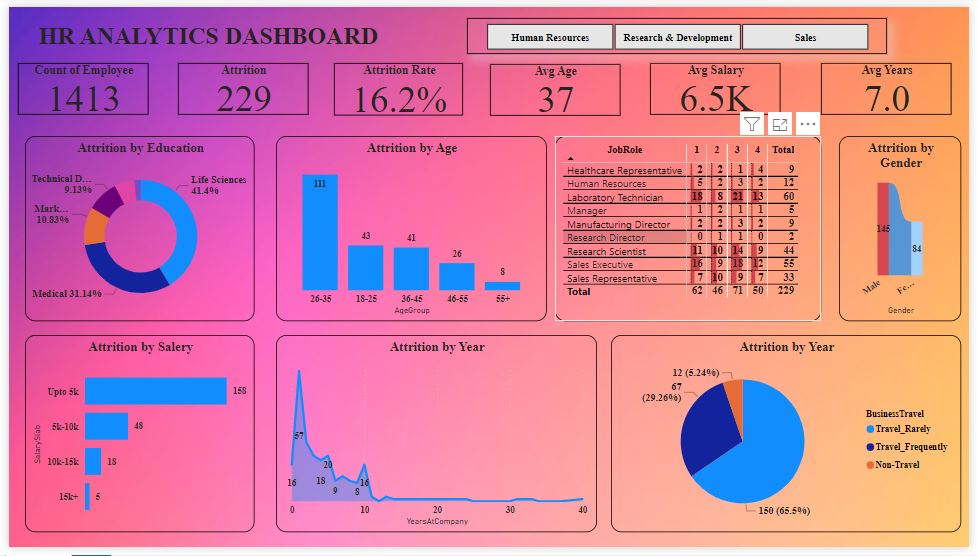

Layout of this report page (visuals, bound fields, positions):
{"tool":"powerbi","page":{"name":"Data","canvas":[1280,720],"ordinal":0},"visuals":[{"type":"card","title":"Count of Employee","fields":{"Values":["CountNonNull(HR_Analytics.EmpID)"]},"box":[11.7,74.4,173.7,68.6],"z":0},{"type":"card","title":"Avg Age","fields":{"Values":["Avg(HR_Analytics.Age)"]},"box":[640.7,75.9,173.7,68.6],"z":1000},{"type":"card","title":"Attrition","fields":{"Values":["Sum(HR_Analytics.AttritionConut)"]},"box":[224.8,74.4,173.7,68.6],"z":2000},{"type":"card","title":"Avg Salary","fields":{"Values":["Avg(HR_Analytics.MonthlyIncome)"]},"box":[855.3,74.4,173.7,68.6],"z":3000},{"type":"card","title":"Avg Years","fields":{"Values":["Avg(HR_Analytics.YearsAtCompany)"]},"box":[1083,74.4,173.7,68.6],"z":4000},{"type":"donutChart","title":"Attrition by Education","fields":{"Category":["HR_Analytics.EducationField"],"Y":["CountNonNull(HR_Analytics.AttritionConut)"]},"box":[21.9,172.2,306.5,246.7],"z":5000},{"type":"columnChart","title":"Attrition by Age","fields":{"Y":["Sum(HR_Analytics.AttritionConut)"],"Category":["HR_Analytics.AgeGroup"]},"box":[356.1,172.2,360.5,246.7],"z":6000},{"type":"pivotTable","fields":{"Rows":["HR_Analytics.JobRole"],"Values":["Sum(HR_Analytics.AttritionConut)"],"Columns":["HR_Analytics.JobSatisfaction"]},"box":[728.3,172.2,354.7,246.7],"z":7000},{"type":"card","title":"Attrition Rate","fields":{"Values":["HR_Analytics.AttirtionRate"]},"box":[433.5,74.4,172.2,70.1],"z":8000},{"type":"clusteredBarChart","title":"Attrition by Salery","fields":{"Category":["HR_Analytics.SalarySlab"],"Y":["Sum(HR_Analytics.AttritionConut)"]},"box":[21.9,437.9,306.5,262.7],"z":9000},{"type":"stackedAreaChart","title":"Attrition by Year","fields":{"Y":["Sum(HR_Analytics.AttritionConut)"],"Category":["HR_Analytics.YearsAtCompany"]},"box":[356.1,437.9,427.6,262.7],"z":10000},{"type":"pieChart","title":"Attrition by Year","fields":{"Y":["Sum(HR_Analytics.AttritionConut)"],"Category":["HR_Analytics.BusinessTravel"]},"box":[802.7,437.9,467,262.7],"z":11000},{"type":"ribbonChart","title":"Attrition by Gender","fields":{"Category":["HR_Analytics.Gender"],"Y":["Sum(HR_Analytics.AttritionConut)"]},"box":[1106.3,172.2,163.5,246.7],"z":11001},{"type":"slicer","fields":{"Values":["HR_Analytics.Department"]},"box":[610.1,14.6,560.5,48.2],"z":11002},{"type":"textbox","box":[11.7,14.6,507.9,59.8],"z":11003}]}

Visuals, with their boxes in screenshot pixels (x1, y1, x2, y2), scaled from the page's 1280x720 canvas onto the 978x556 screenshot:
"Count of Employee" card: x1=9 y1=57 x2=142 y2=110
"Avg Age" card: x1=490 y1=59 x2=622 y2=112
"Attrition" card: x1=172 y1=57 x2=304 y2=110
"Avg Salary" card: x1=654 y1=57 x2=786 y2=110
"Avg Years" card: x1=827 y1=57 x2=960 y2=110
"Attrition by Education" donutChart: x1=17 y1=133 x2=251 y2=323
"Attrition by Age" columnChart: x1=272 y1=133 x2=548 y2=323
pivotTable - HR_Analytics.JobRole x Sum(HR_Analytics.AttritionConut): x1=556 y1=133 x2=827 y2=323
"Attrition Rate" card: x1=331 y1=57 x2=463 y2=112
"Attrition by Salery" clusteredBarChart: x1=17 y1=338 x2=251 y2=541
"Attrition by Year" stackedAreaChart: x1=272 y1=338 x2=599 y2=541
"Attrition by Year" pieChart: x1=613 y1=338 x2=970 y2=541
"Attrition by Gender" ribbonChart: x1=845 y1=133 x2=970 y2=323
slicer - HR_Analytics.Department: x1=466 y1=11 x2=894 y2=48
textbox: x1=9 y1=11 x2=397 y2=57
